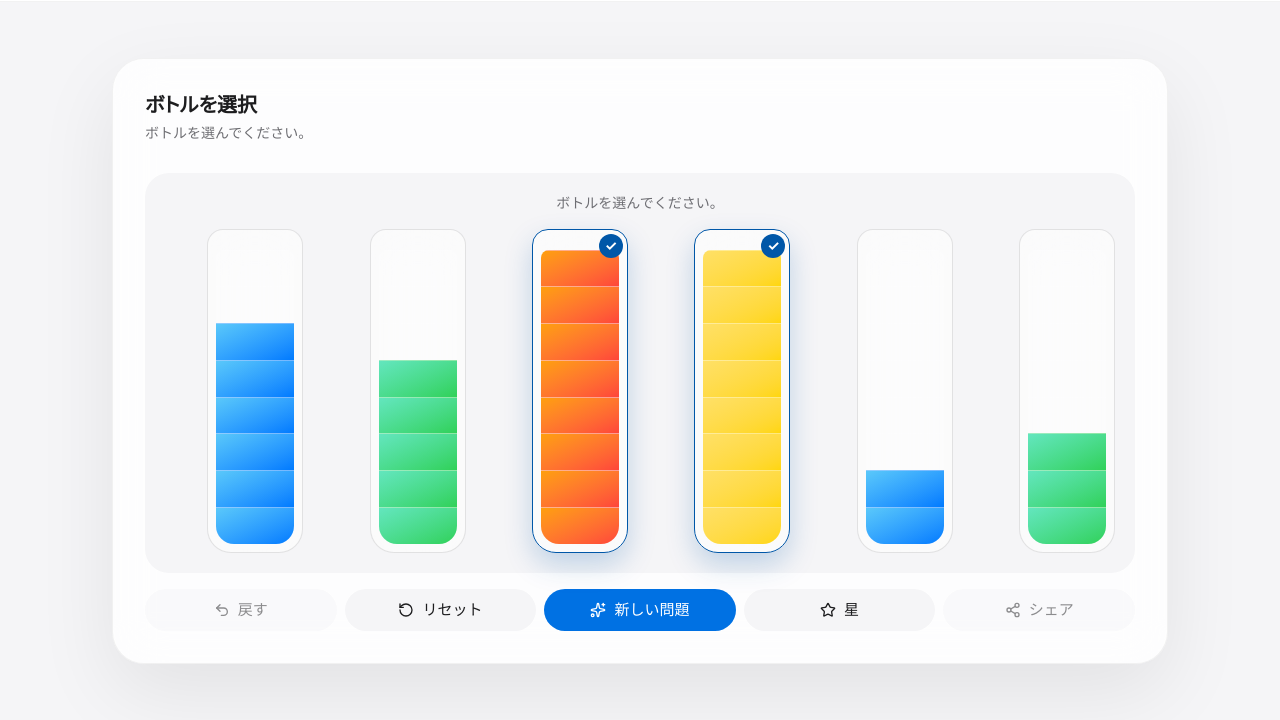
ColorSortPuzzlePage › restores the initial puzzle and move count after confirmed reset
(page scrolled)
Click the button named "ボトル 1" at x=255, y=391, box x1=207 y1=229 x2=303 y2=553
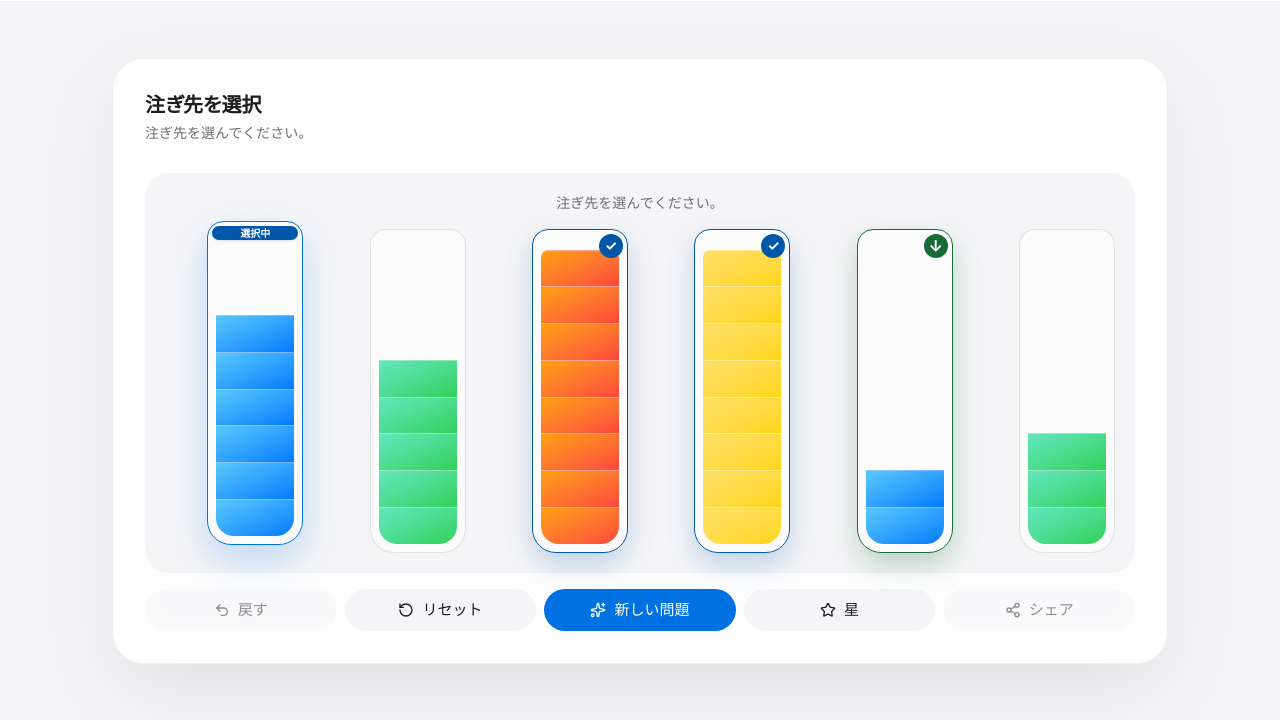
Click the button named "ボトル 5" at x=905, y=391, box x1=857 y1=229 x2=953 y2=553
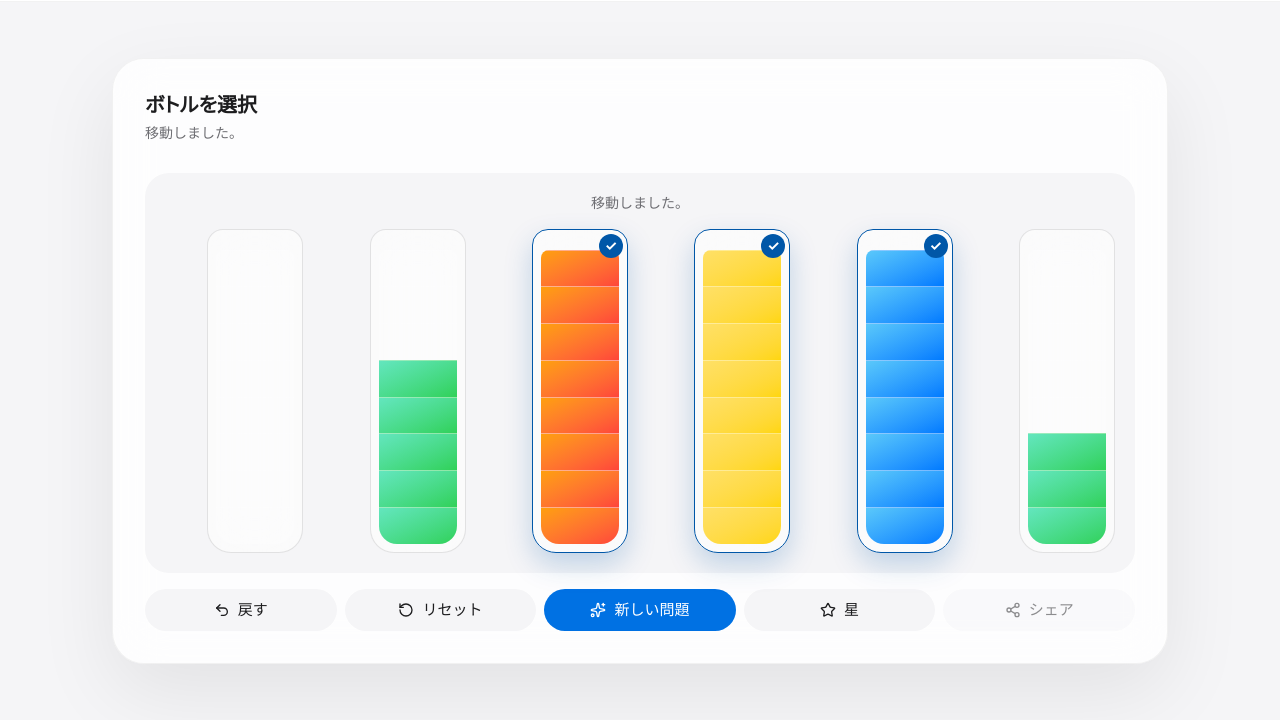
Click the 2nd button named "リセット" at x=440, y=610, box x1=345 y1=589 x2=536 y2=631
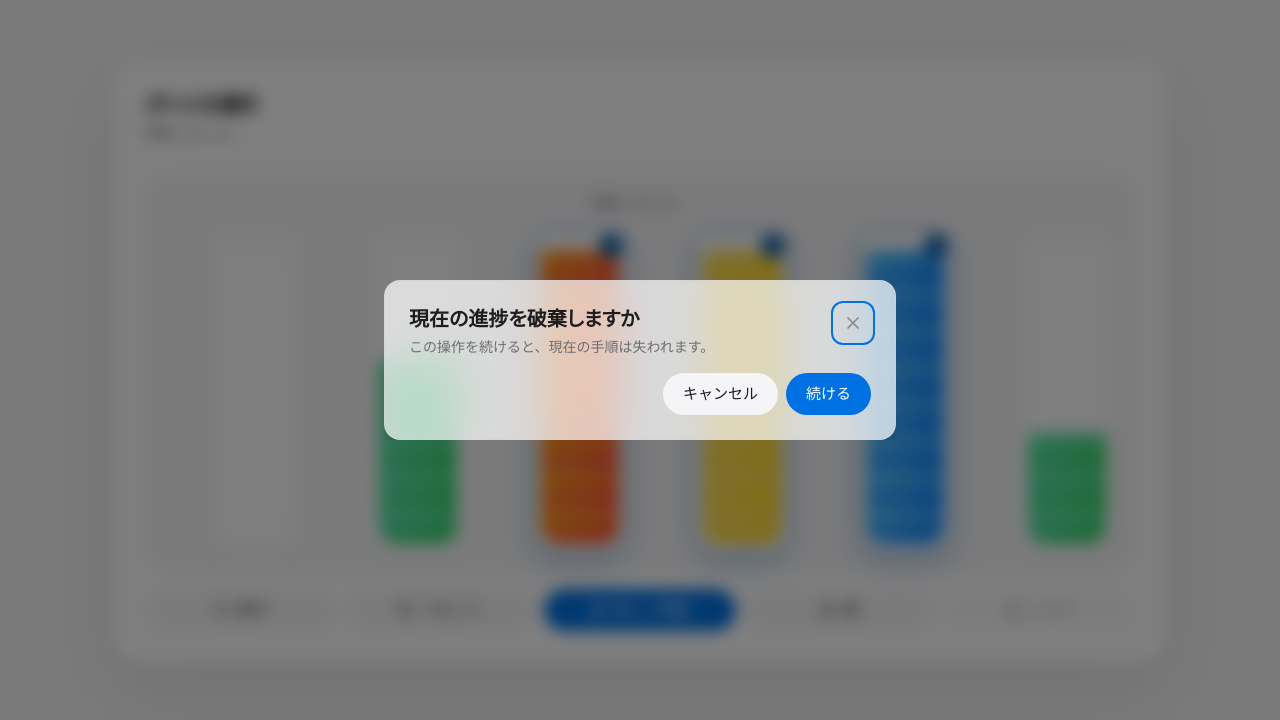
Click the 2nd button named "続ける" at x=828, y=394, box x1=786 y1=373 x2=871 y2=415
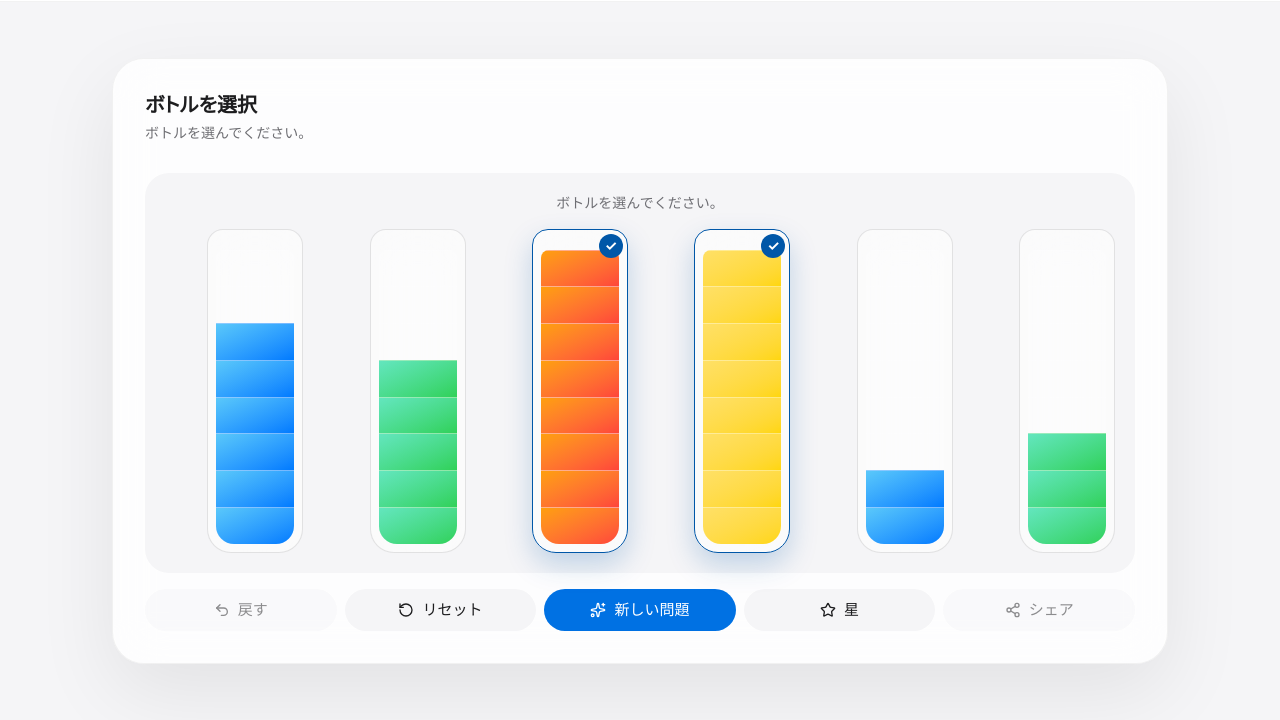
Expected: the button named "ボトル 1、6/8" is shown, x1=207 y1=229 x2=303 y2=553
